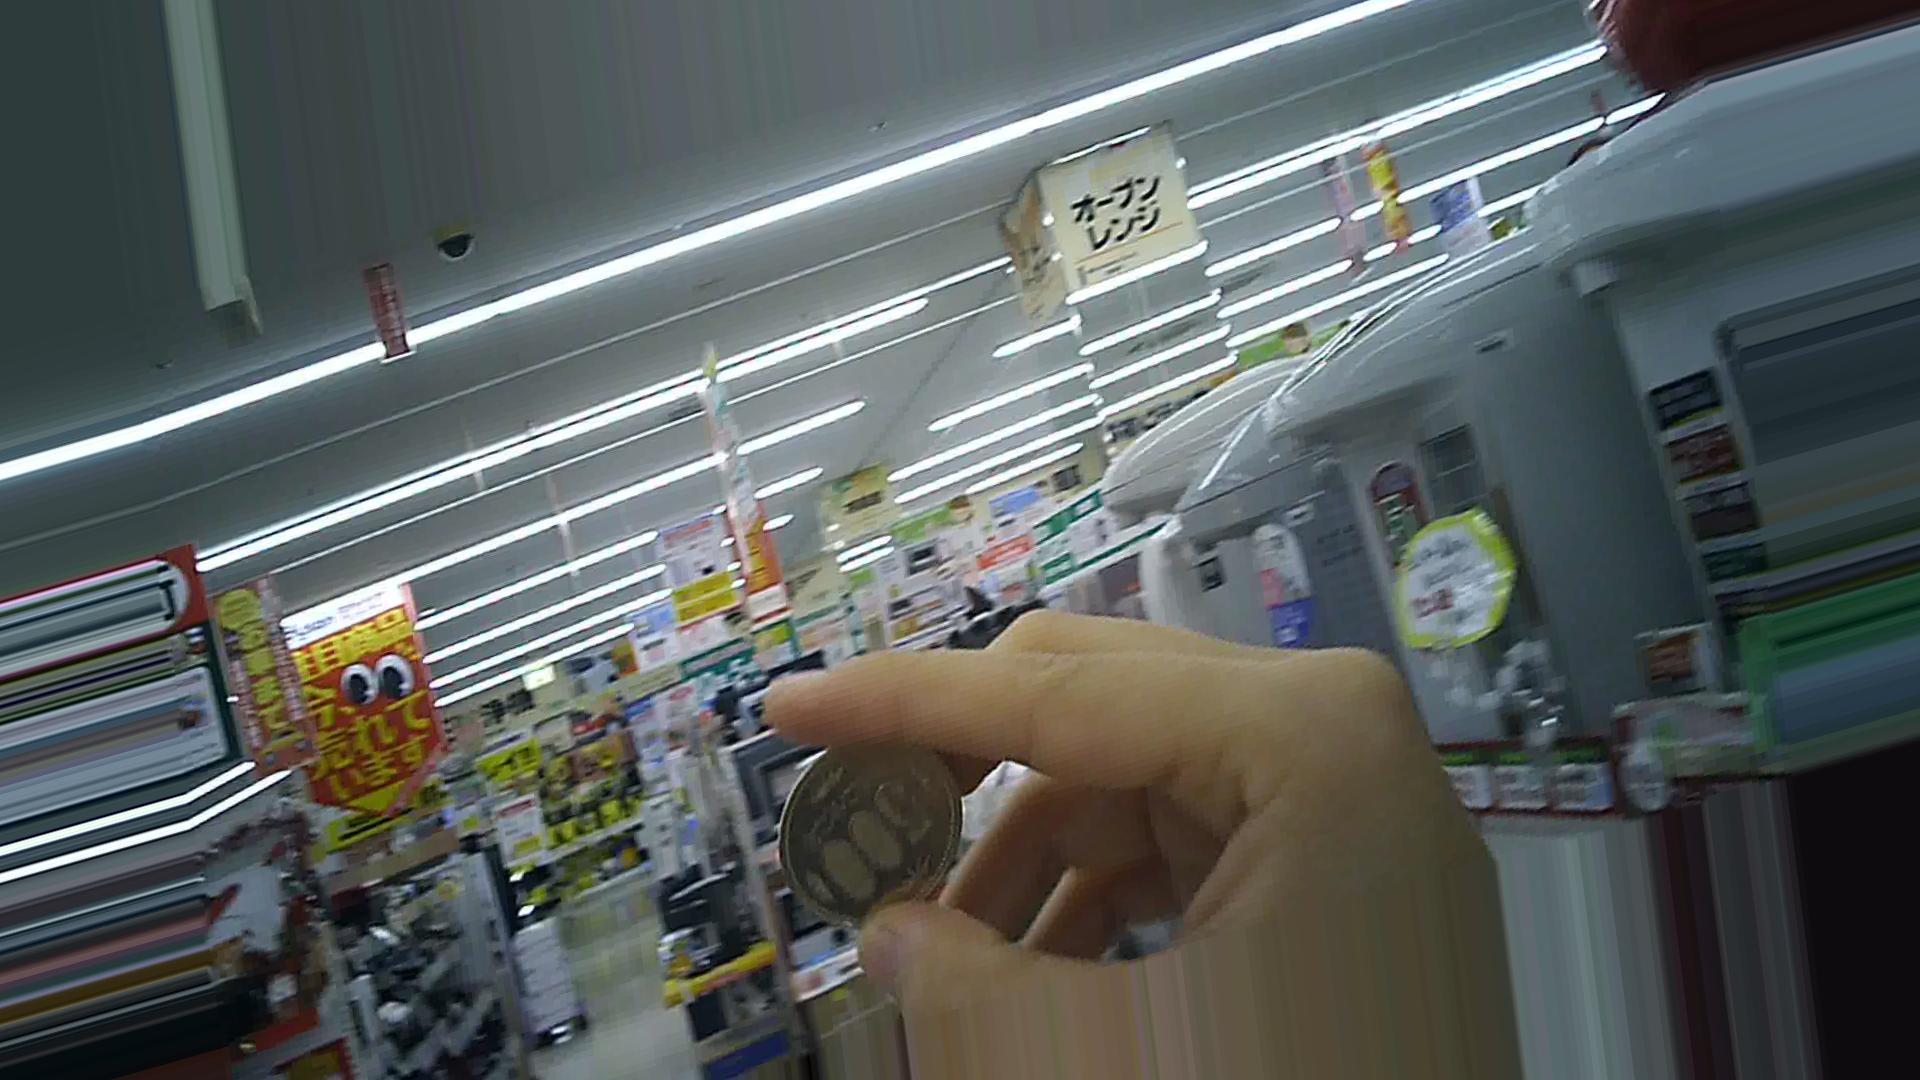500 Yen: (760, 716, 955, 926)
